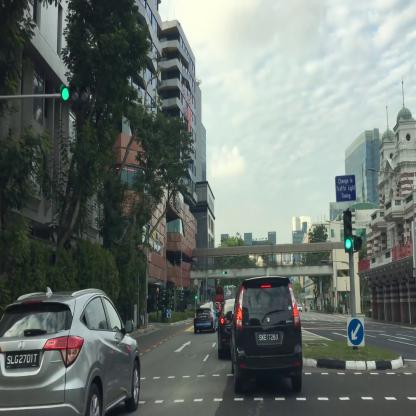green_traffic_light: (61, 87, 88, 101), (344, 211, 352, 249)
